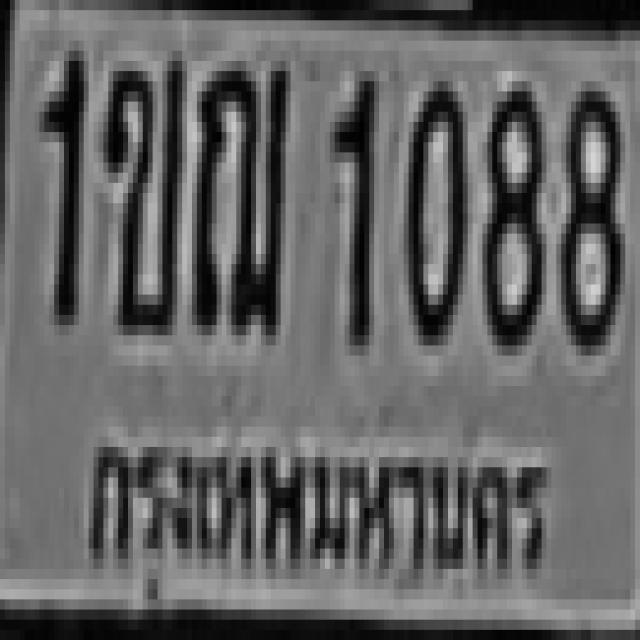0: (403, 71, 462, 335)
1: (37, 41, 81, 315), (332, 71, 372, 335)
11KhorKhai: (99, 51, 182, 325)
21ChorChoe: (187, 51, 286, 325)
8: (480, 71, 539, 346), (556, 82, 616, 346)
Bangkok: (65, 400, 563, 625)
